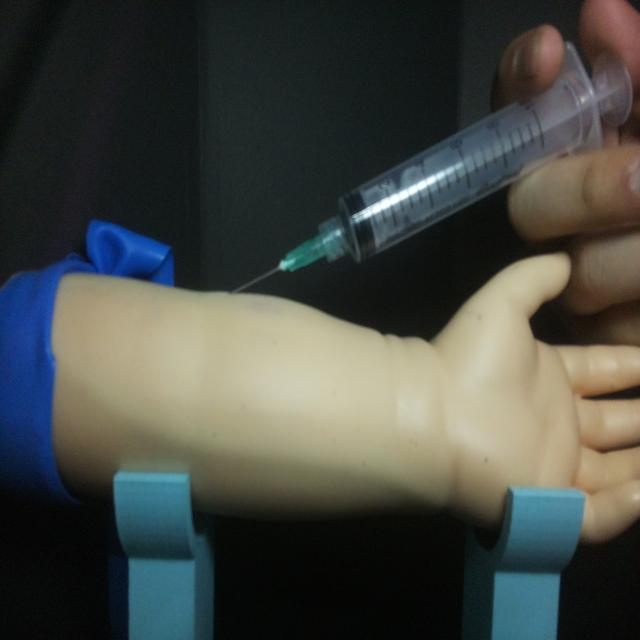21deg: (225, 35, 633, 297)
